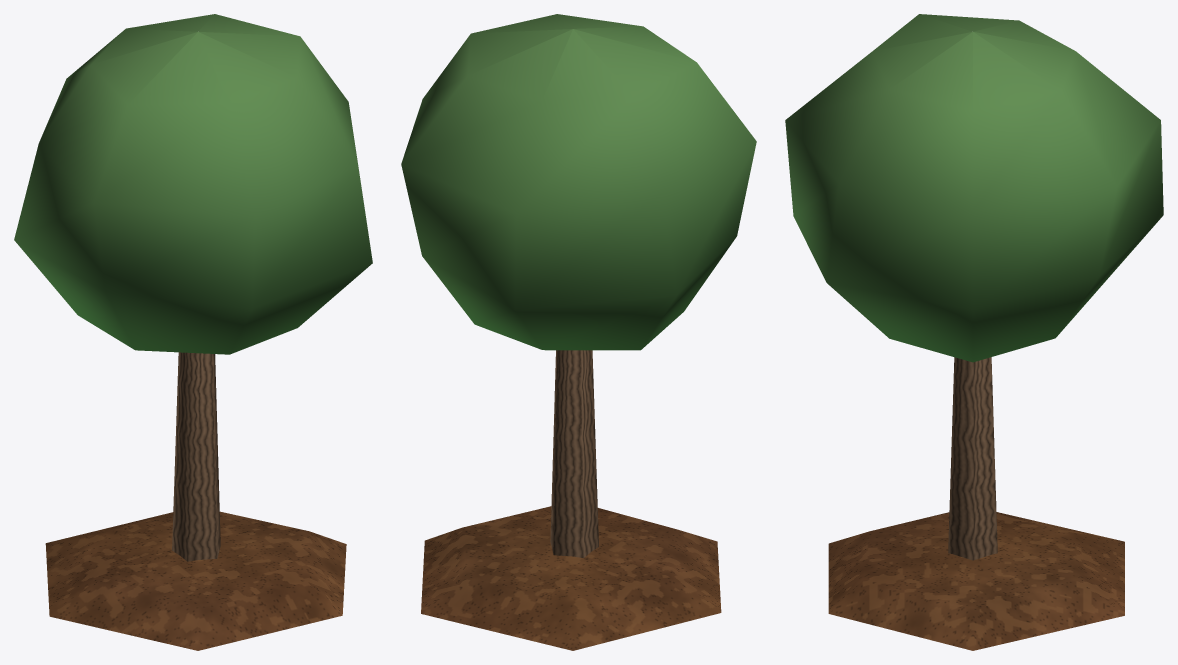
Rendered from plant-mango-2-far.glb.
3 renders of one model, left to right at view 1: azimuth 30°, elevation 25°; view 2: azimuth 150°, elevation 25°; view 3: azimuth 270°, elevation 25°, orthographic.
Visible parts, largest first — view 1: plant-mango-2-far; view 2: plant-mango-2-far; view 3: plant-mango-2-far.
Part boxes in pixels (box(x1,y1,x2,y2)): plant-mango-2-far: box(14, 14, 372, 650); plant-mango-2-far: box(401, 14, 756, 650); plant-mango-2-far: box(785, 14, 1163, 650).
Size of the model in its own units: 1.03 by 1.76 by 1.11.
Materials: 3 (2 with a texture image).
